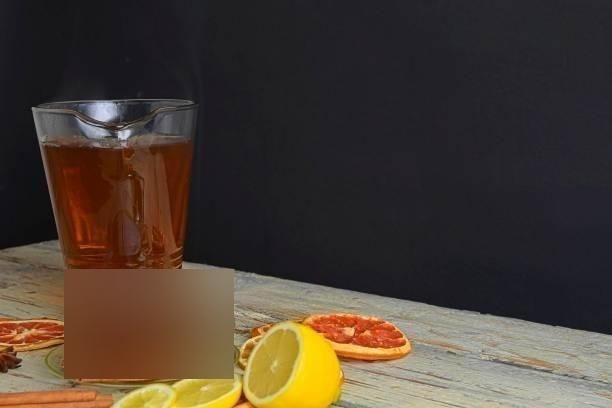glass-normal: (30, 95, 201, 270)
